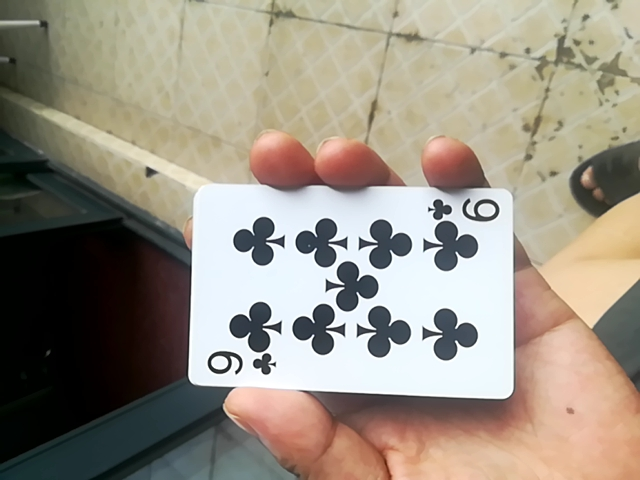mh 9: (185, 174, 521, 391)
